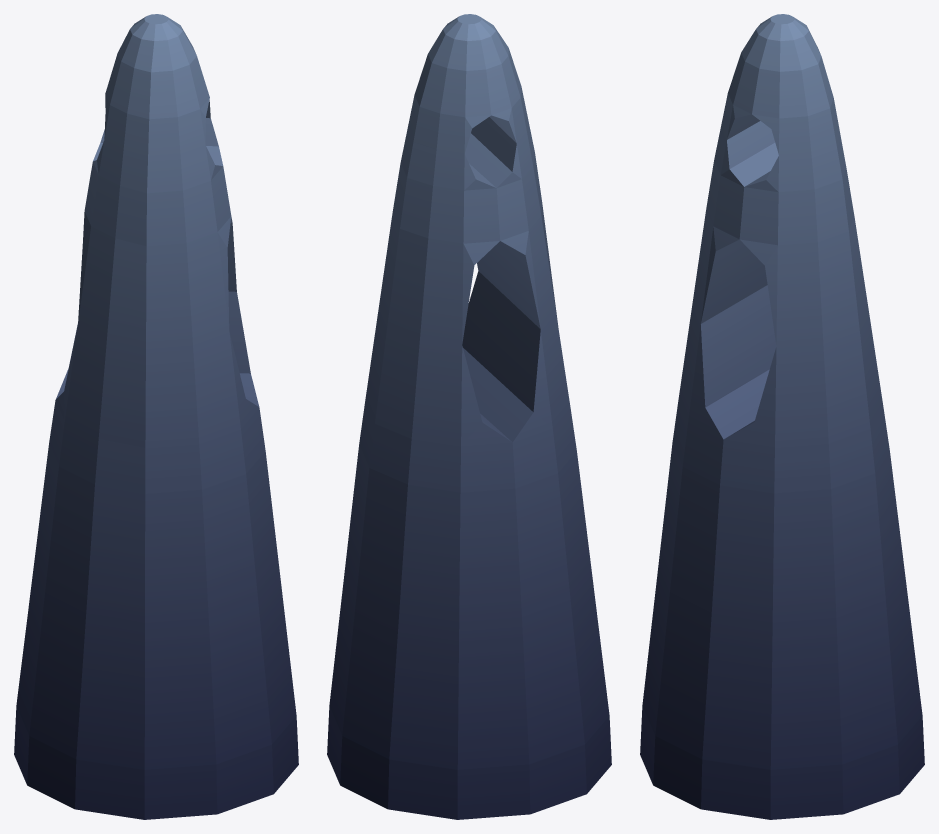
The model's file is Pivot_Sanctuary.fbx.
3 renders of one model, left to right at view 1: azimuth 30°, elevation 25°; view 2: azimuth 150°, elevation 25°; view 3: azimuth 270°, elevation 25°, orthographic.
Parts seen in each view (by area): view 1: Cone.001; view 2: Cone.001; view 3: Cone.001.
Boxes of the visible parts, <box> form: Cone.001: <box>14,14,298,819</box>; Cone.001: <box>327,14,611,819</box>; Cone.001: <box>640,14,924,819</box>.
Bounding box in the file's own units: 419 × 1203 × 419.
Materials: 1 (1 with a texture image).
